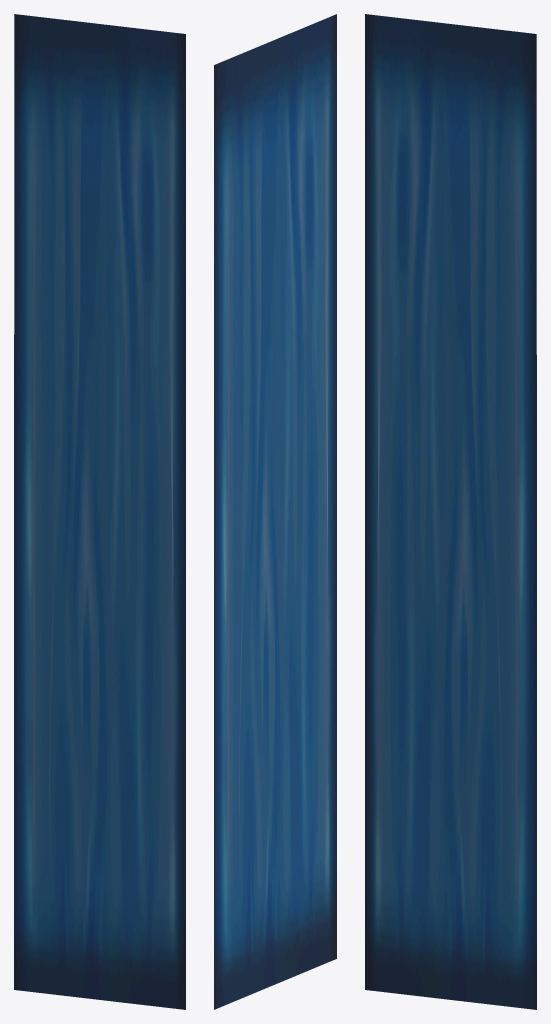
The model's file is W_I_wa_Verschluß [Jewellery]_2988.glb.
The picture shows the model from 3 angles, left to right: view 1: azimuth 90°, elevation 25°; view 2: azimuth 150°, elevation 25°; view 3: azimuth 270°, elevation 25°; orthographic projection. The views are drawn at different scales.
Visible parts, largest first — view 1: pPlaneShape23; view 2: pPlaneShape23; view 3: pPlaneShape23.
Part boxes in pixels (<box>): pPlaneShape23: <box>14,14,185,1009</box>; pPlaneShape23: <box>214,14,336,1009</box>; pPlaneShape23: <box>365,14,536,1009</box>.
Bounding box in the file's own units: 0.0154 × 0.3486 × 0.0556.
Materials: 1 (1 with a texture image).
